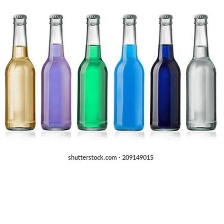bottle: (34, 11, 75, 133), (146, 12, 184, 134), (109, 12, 146, 133), (181, 12, 216, 136), (3, 12, 37, 134), (77, 13, 109, 133)
